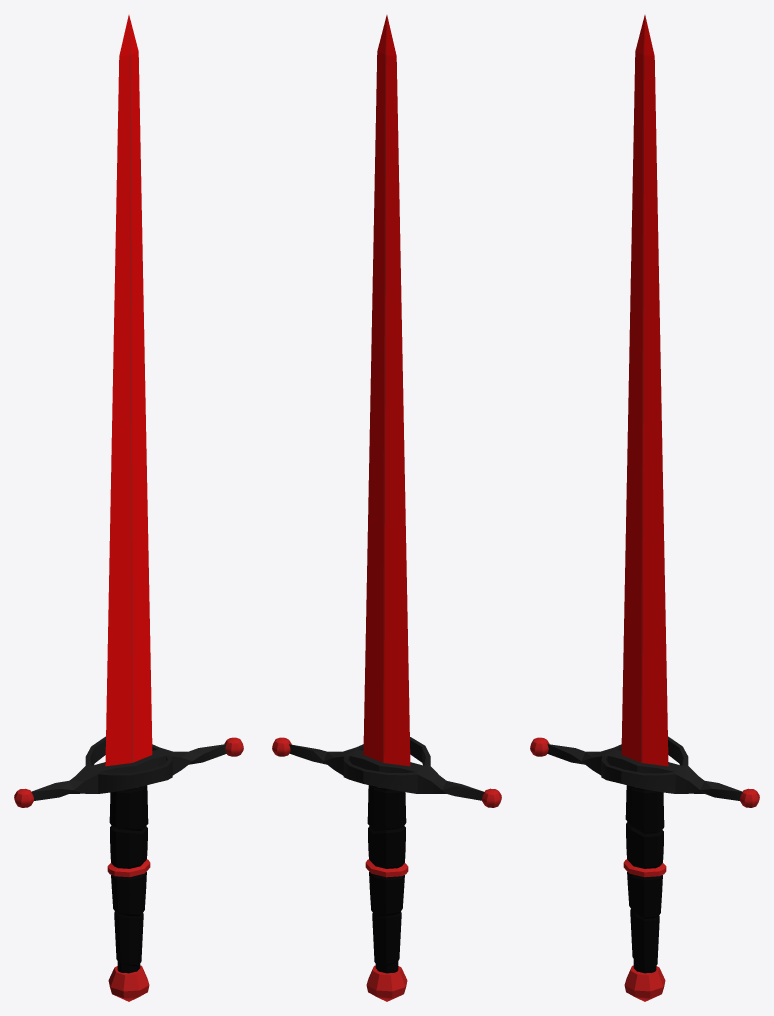
File: SM_Sword07_GermanBastard_5FantasyRed.fbx
3 views of the same model, side by side, from view 1: azimuth 30°, elevation 25°; view 2: azimuth 150°, elevation 25°; view 3: azimuth 330°, elevation 25° (orthographic).
Parts seen in each view (by area): view 1: Cube.294, Cylinder.197, Cube.295, Sphere.106, Sphere.105; view 2: Cube.294, Cylinder.197, Cube.295, Sphere.106, Sphere.105; view 3: Cube.294, Cylinder.197, Cube.295, Sphere.106, Sphere.105.
Boxes of the visible parts, x1,y1,x2,y2 form: Cube.294: (105, 15, 152, 766); Cylinder.197: (107, 785, 150, 973); Cube.295: (31, 736, 226, 800); Sphere.106: (108, 965, 149, 1001); Sphere.105: (14, 737, 243, 807); Cube.294: (363, 15, 410, 766); Cylinder.197: (365, 785, 408, 973); Cube.295: (289, 737, 484, 800); Sphere.106: (366, 965, 407, 1001); Sphere.105: (272, 737, 501, 807); Cube.294: (621, 15, 668, 766); Cylinder.197: (623, 785, 666, 973); Cube.295: (547, 736, 742, 800); Sphere.106: (624, 965, 665, 1001); Sphere.105: (530, 737, 759, 807).
Bounding box in the file's own units: 0.2986 × 1.24 × 0.1071.
